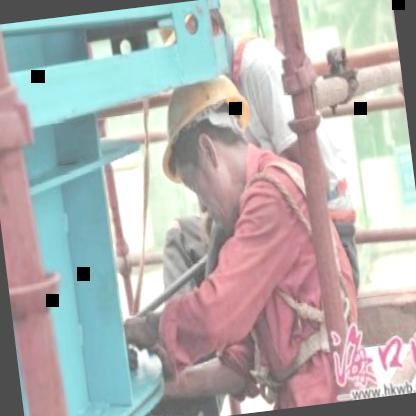helmet: (146, 59, 276, 238)
